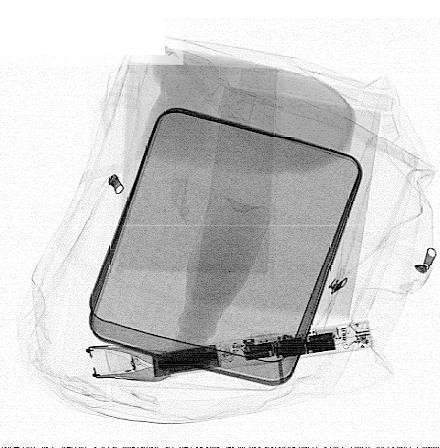Baton: (149, 318, 374, 380)
